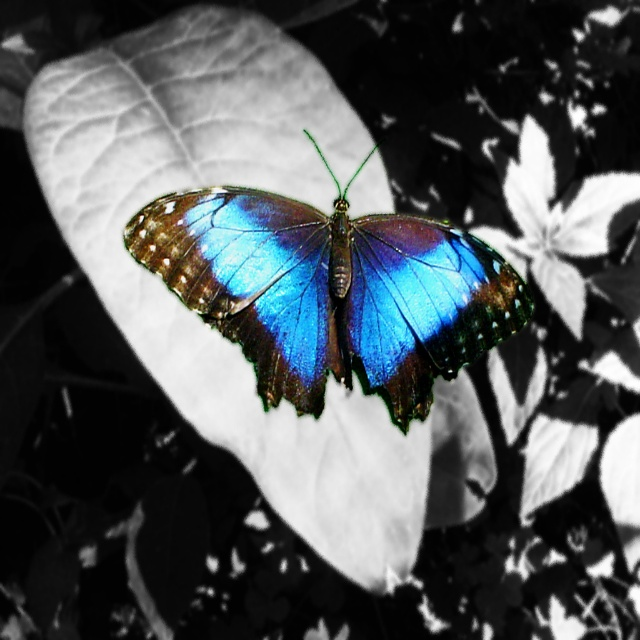Butterfly: (136, 105, 507, 431)
